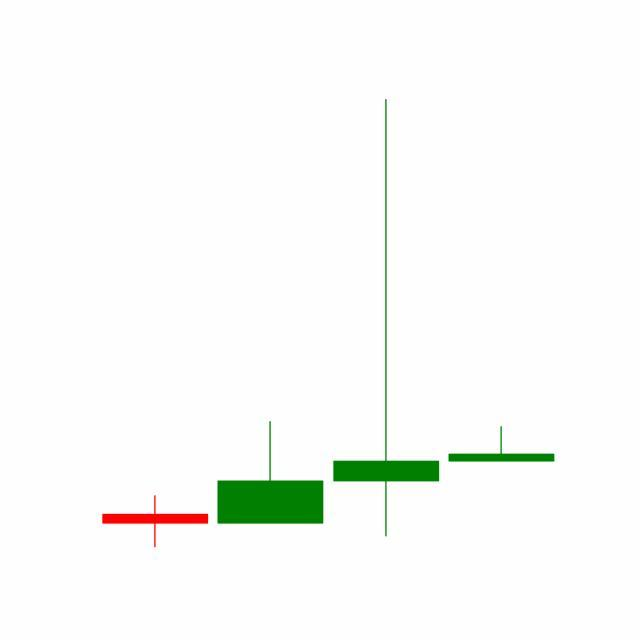Spinning Top: (329, 94, 445, 542)
